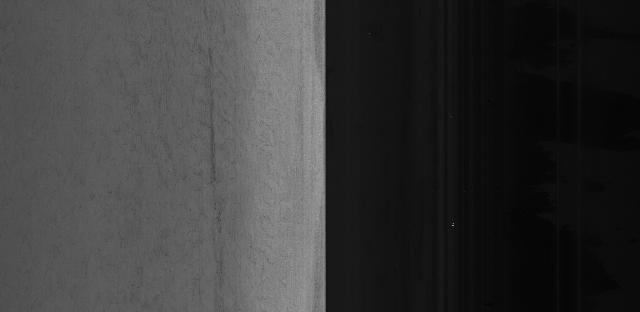silk_spot: (166, 67, 237, 231)
